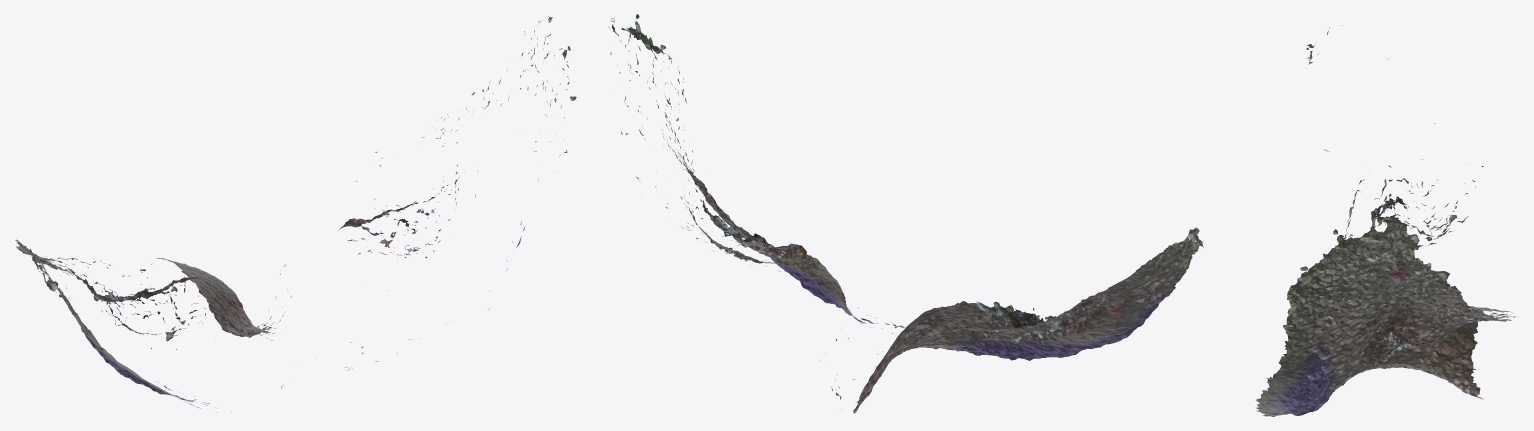
Rendered from untitled_occhi.glb.
3 views of the same model, side by side, from view 1: azimuth 30°, elevation 25°; view 2: azimuth 150°, elevation 25°; view 3: azimuth 270°, elevation 25° (orthographic). The views are drawn at different scales.
Parts seen in each view (by area): view 1: defaultobject; view 2: defaultobject; view 3: defaultobject.
Part boxes in pixels (x1=…): defaultobject: x1=15, y1=16, x2=576, y2=412; defaultobject: x1=608, y1=14, x2=1203, y2=413; defaultobject: x1=1256, y1=25, x2=1516, y2=416.
Bounding box in the file's own units: 1.63 × 0.8247 × 0.6537.
